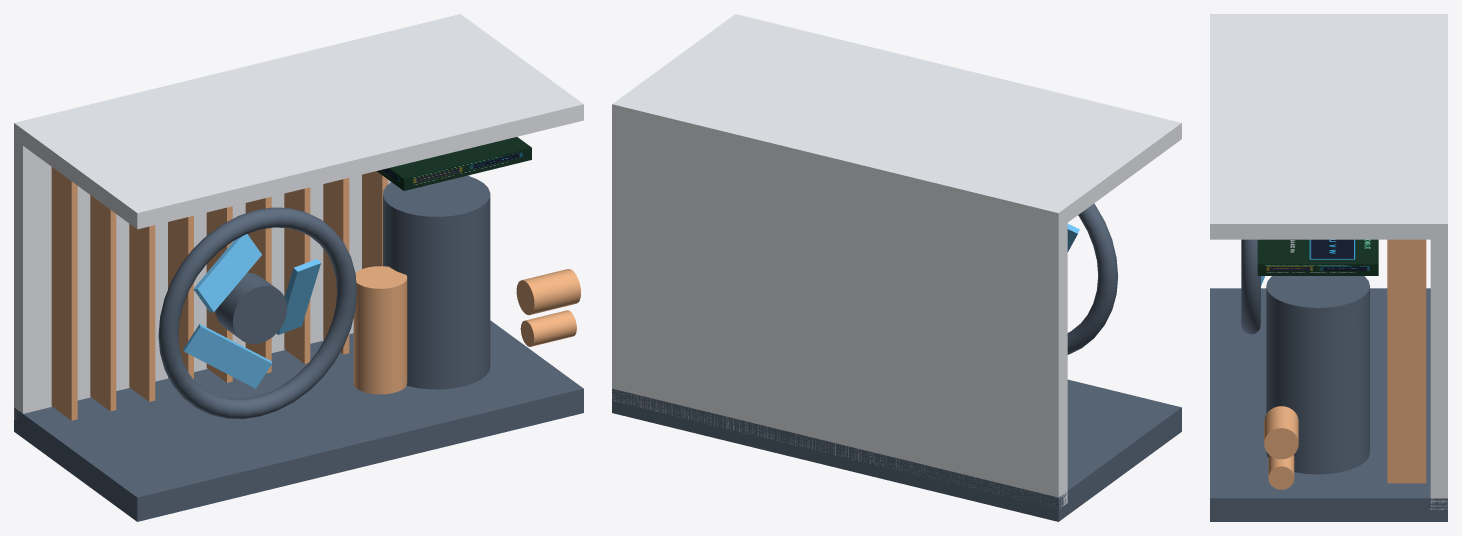
The model's file is hvac-inverter.glb.
The picture shows the model from 3 angles, left to right: view 1: azimuth 30°, elevation 25°; view 2: azimuth 150°, elevation 25°; view 3: azimuth 270°, elevation 25°; orthographic projection. The views are drawn at different scales.
Visible parts, largest first — view 1: TopCover, BaseTray, BackPanel, ScrollCompressor, FanShroud, Accumulator, CoilFin0, CoilFin1, CoilFin2, IPMBoard, FanHub, FanBlade2 (+10 smaller); view 2: BackPanel, TopCover, BaseTray, FanShroud; view 3: TopCover, BaseTray, ScrollCompressor, CoilFin10, BackPanel, IPMBoard, FanShroud, ValveGas, ValveLiquid.
Part boxes in pixels (left/top/right/bottom): TopCover: left=14, top=14, right=583, bottom=229; BaseTray: left=14, top=320, right=583, bottom=521; BackPanel: left=14, top=135, right=469, bottom=420; ScrollCompressor: left=383, top=175, right=490, bottom=389; FanShroud: left=158, top=207, right=356, bottom=419; Accumulator: left=353, top=266, right=407, bottom=394; CoilFin0: left=51, top=167, right=77, bottom=420; CoilFin1: left=90, top=195, right=116, bottom=411; CoilFin2: left=129, top=224, right=155, bottom=401; IPMBoard: left=377, top=137, right=531, bottom=190; FanHub: left=215, top=272, right=287, bottom=343; FanBlade2: left=183, top=324, right=272, bottom=388; BackPanel: left=612, top=117, right=1067, bottom=507; TopCover: left=612, top=14, right=1181, bottom=229; BaseTray: left=612, top=379, right=1181, bottom=521; FanShroud: left=1067, top=203, right=1118, bottom=354; TopCover: left=1210, top=14, right=1447, bottom=239; BaseTray: left=1210, top=288, right=1447, bottom=521; ScrollCompressor: left=1266, top=276, right=1369, bottom=474; CoilFin10: left=1387, top=239, right=1426, bottom=483; BackPanel: left=1430, top=236, right=1447, bottom=509; IPMBoard: left=1257, top=239, right=1378, bottom=275; FanShroud: left=1241, top=239, right=1260, bottom=334; ValveGas: left=1264, top=406, right=1298, bottom=459; ValveLiquid: left=1268, top=455, right=1294, bottom=489.
Bounding box in the file's own units: 2.43 × 1.52 × 1.1.
Materials: 5 (1 with a texture image).
